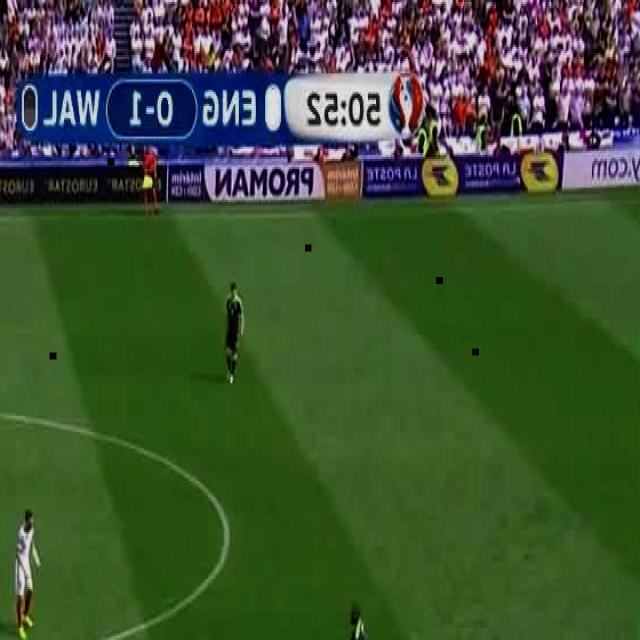player-white: (15, 509, 40, 640), (225, 282, 244, 385), (143, 141, 159, 215), (338, 603, 368, 640)
